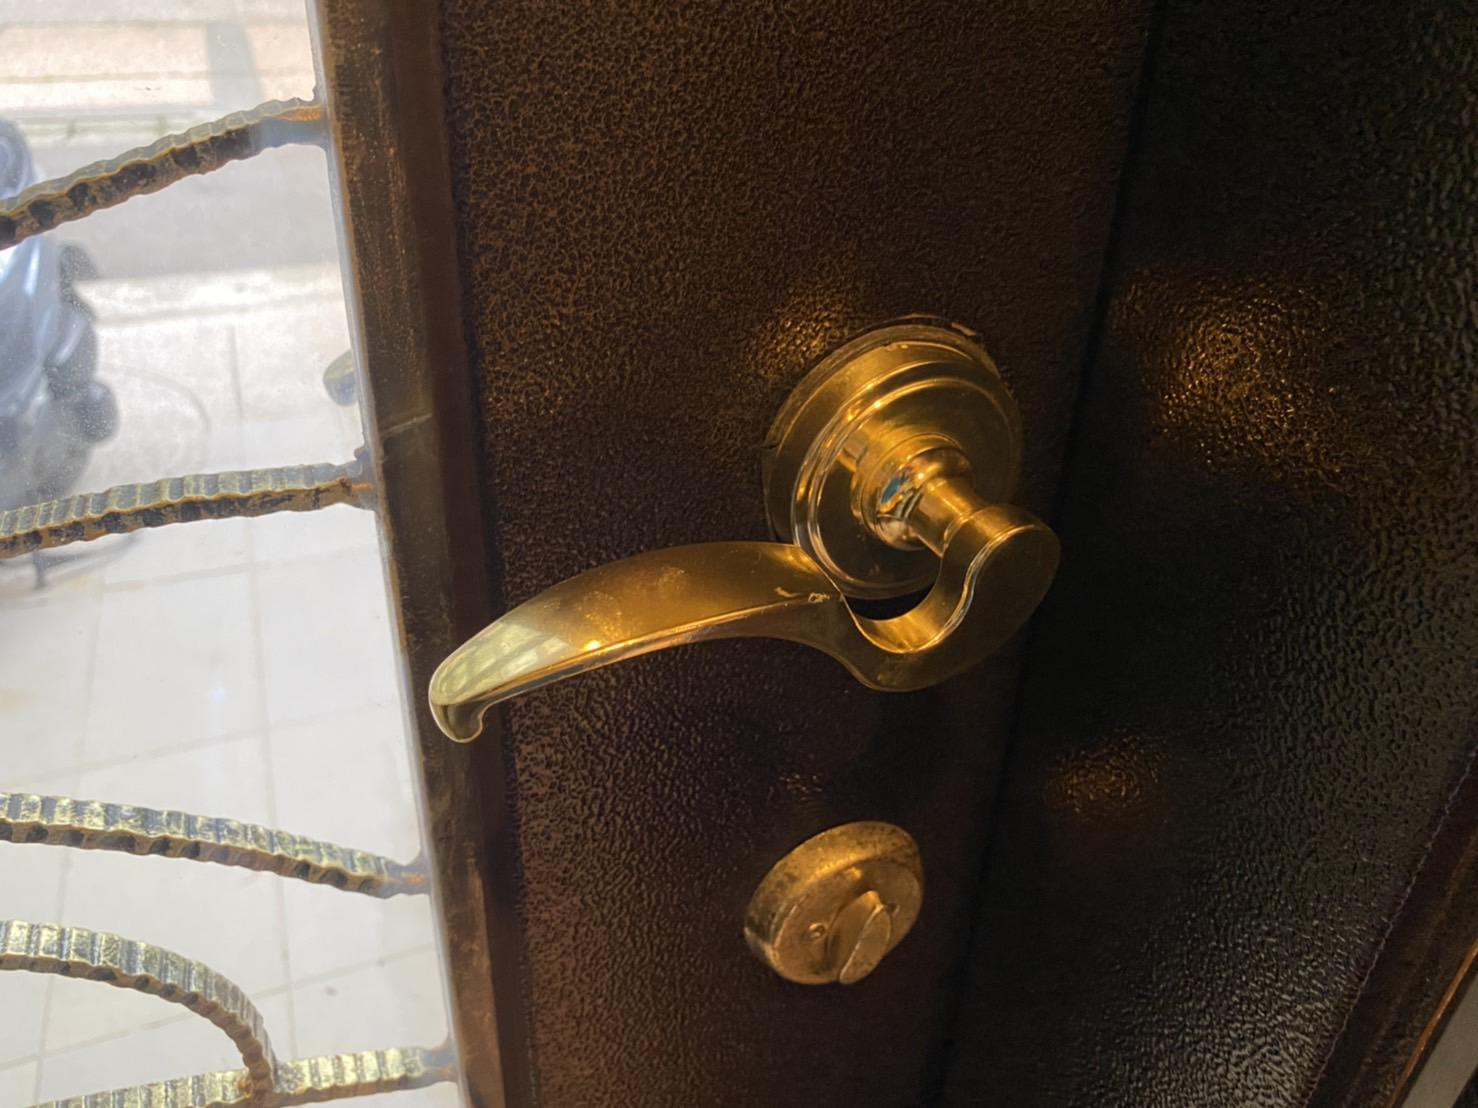doorhandle: (431, 370, 1115, 760)
